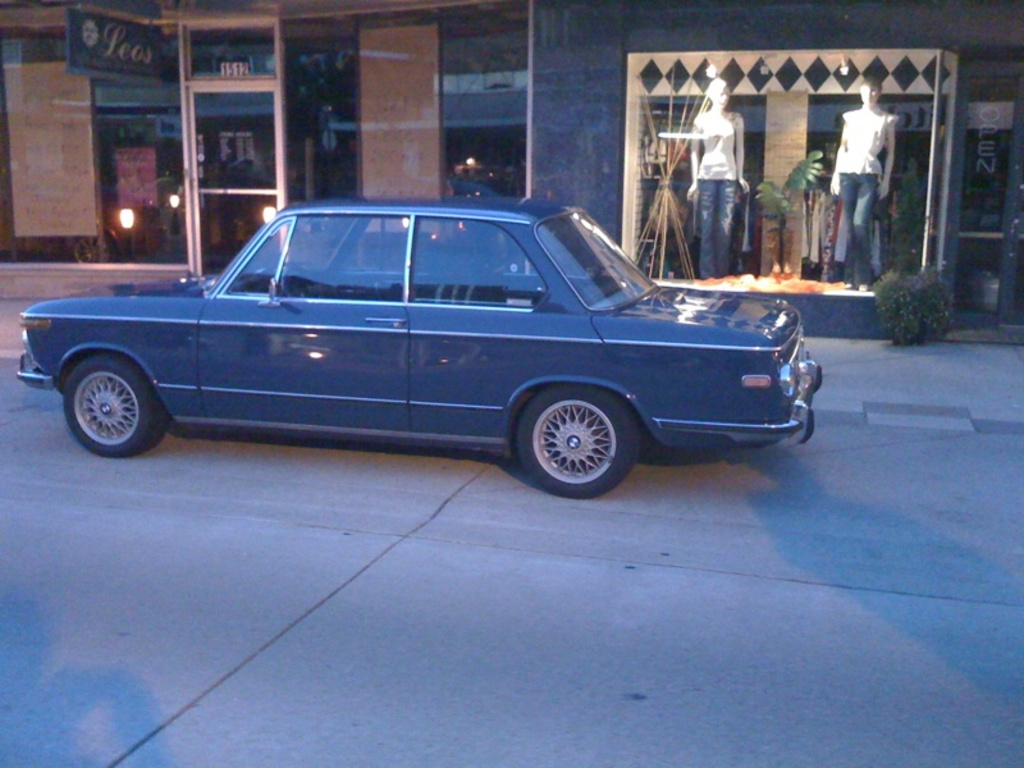Car: (17, 186, 824, 506)
